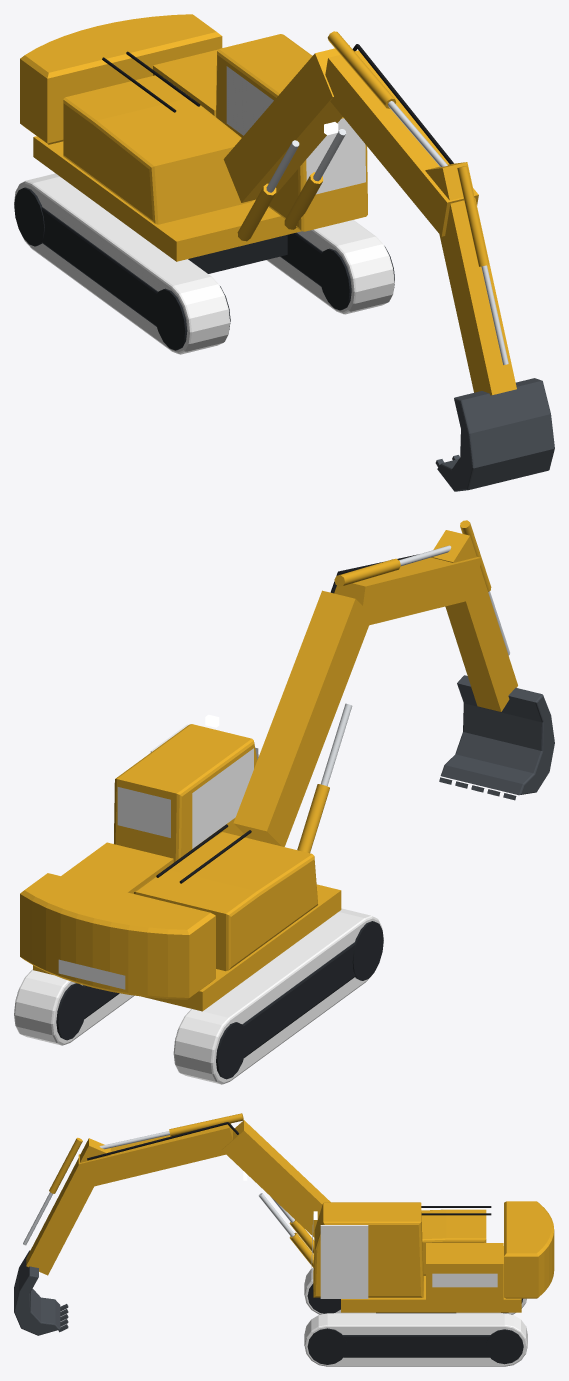
File: equipment--excavator.glb
3 views of the same model, one above another, from view 1: azimuth 30°, elevation 25°; view 2: azimuth 150°, elevation 25°; view 3: azimuth 270°, elevation 25° (orthographic). The views are drawn at different scales.
Visible parts, largest first — view 1: house, boom, trackR, counterweight, stick, bucket, trackL, excavator:shell; view 2: house, boom, counterweight, trackR, bucket, stick, trackL; view 3: house, trackL, boom, counterweight, stick, door, bucket, trackR.
Boxes of the visible parts, left/top/right/bottom form: house: left=33, top=34, right=367, bottom=261; boom: left=223, top=31, right=478, bottom=241; trackR: left=14, top=173, right=230, bottom=354; counterweight: left=20, top=14, right=222, bottom=144; stick: left=425, top=162, right=516, bottom=395; bucket: left=435, top=378, right=554, bottom=491; trackL: left=266, top=220, right=394, bottom=314; excavator:shell: left=188, top=235, right=287, bottom=273; house: left=33, top=724, right=341, bottom=1011; boom: left=233, top=545, right=480, bottom=853; counterweight: left=20, top=873, right=215, bottom=999; trackR: left=173, top=908, right=383, bottom=1084; bucket: left=439, top=675, right=554, bottom=800; stick: left=431, top=520, right=517, bottom=711; trackL: left=14, top=969, right=134, bottom=1045; house: left=311, top=1202, right=521, bottom=1312; trackL: left=304, top=1313, right=527, bottom=1366; boom: left=78, top=1113, right=330, bottom=1267; counterweight: left=504, top=1201, right=554, bottom=1298; stick: left=23, top=1137, right=110, bottom=1275; door: left=320, top=1225, right=368, bottom=1298; bucket: left=14, top=1250, right=68, bottom=1335; trackR: left=304, top=1268, right=526, bottom=1314.
Bounding box in the file's own units: 3.05 × 4.83 × 10.78.
